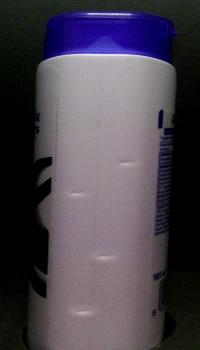dent_unacceptable: (56, 301, 104, 325), (81, 247, 130, 270), (105, 151, 140, 175), (55, 186, 92, 201)
